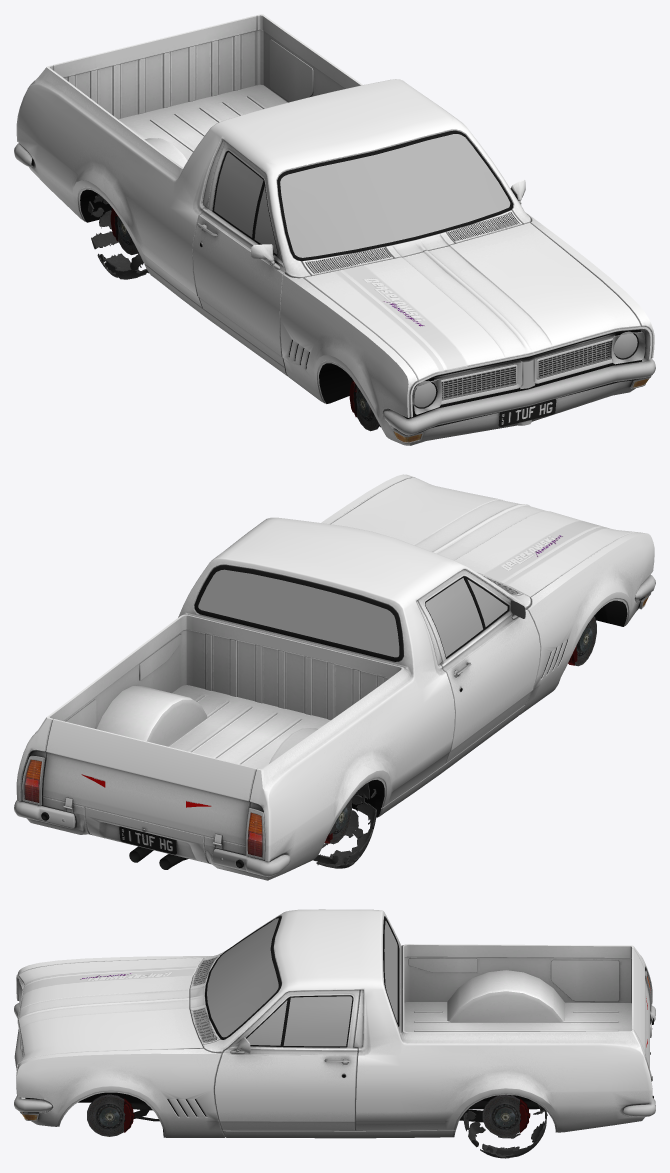
The model's file is 36_1TufHG.fbx.
The picture shows the model from 3 angles, top to bottom: view 1: azimuth 30°, elevation 25°; view 2: azimuth 150°, elevation 25°; view 3: azimuth 270°, elevation 25°; orthographic projection. The views are drawn at different scales.
Visible parts, largest first — view 1: body_duco, kit00_duco, body_glass, body_chrome, body_matte, NumberPlate (1); view 2: body_duco, kit00_duco, body_glass, body_matte, body_chrome, body_glossy, NumberPlate, Rotor; view 3: body_duco, kit00_duco, body_glass, body_matte, Rotor (×2), body_chrome.
Part boxes in pixels (<box>): body_duco: <box>16,14,654,445</box>; kit00_duco: <box>304,222,641,380</box>; body_glass: <box>214,134,637,407</box>; body_chrome: <box>14,143,655,443</box>; body_matte: <box>80,130,641,427</box>; NumberPlate (1): <box>498,399,556,426</box>; body_duco: <box>16,474,654,880</box>; kit00_duco: <box>331,477,634,597</box>; body_glass: <box>198,569,507,657</box>; body_matte: <box>41,565,627,869</box>; body_chrome: <box>14,575,655,876</box>; body_glossy: <box>24,595,648,857</box>; NumberPlate: <box>119,826,176,854</box>; Rotor: <box>575,616,596,666</box>; body_duco: <box>16,909,652,1138</box>; kit00_duco: <box>18,958,203,1063</box>; body_glass: <box>207,918,397,1046</box>; body_matte: <box>78,916,653,1135</box>; Rotor (×2): <box>87,1094,520,1136</box>; body_chrome: <box>14,970,655,1121</box>.
Size of what is drawn, in the model's own units: 1.85 by 1.34 by 4.56.
